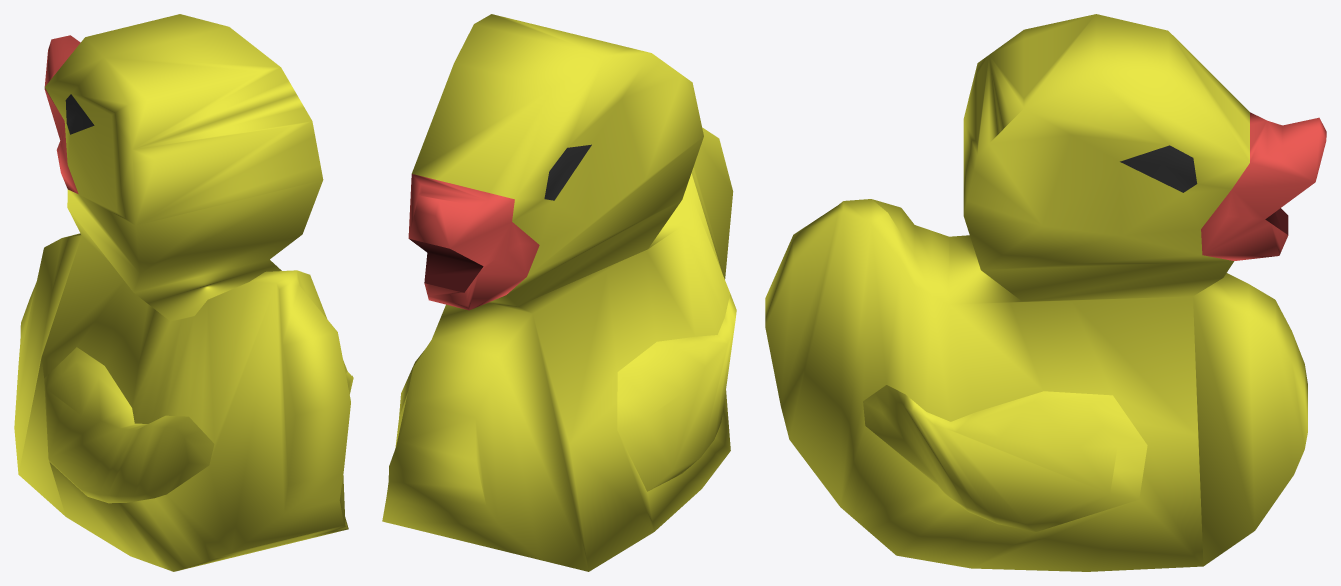
File: duck.fbx
The picture shows the model from 3 angles, left to right: view 1: azimuth 30°, elevation 25°; view 2: azimuth 150°, elevation 25°; view 3: azimuth 270°, elevation 25°; orthographic projection. The views are drawn at different scales.
Parts seen in each view (by area): view 1: DuckModel; view 2: DuckModel; view 3: DuckModel.
Boxes of the visible parts, bbox=[...] form: DuckModel: bbox=[14, 14, 353, 571]; DuckModel: bbox=[382, 14, 736, 571]; DuckModel: bbox=[765, 14, 1326, 571].
Size of the model in its own units: 1.16 by 2.01 by 2.16.
